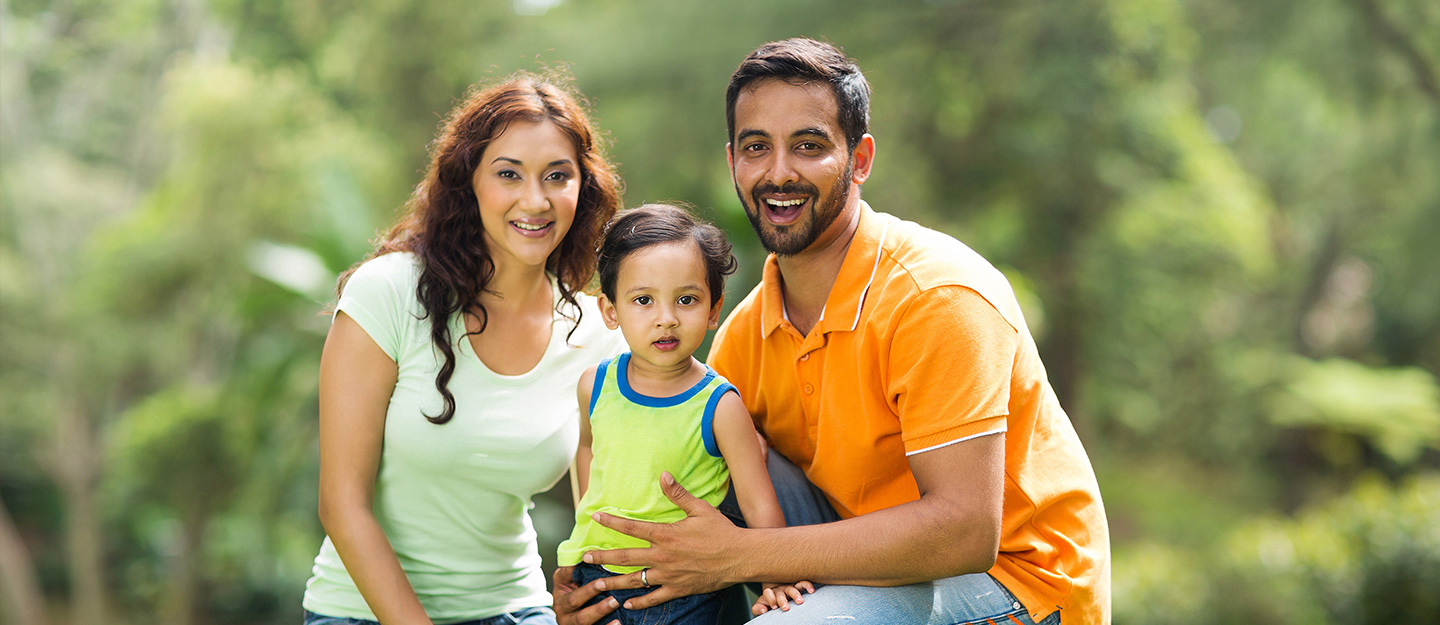men: (710, 29, 891, 257)
women: (430, 70, 604, 301), (613, 184, 731, 404)
